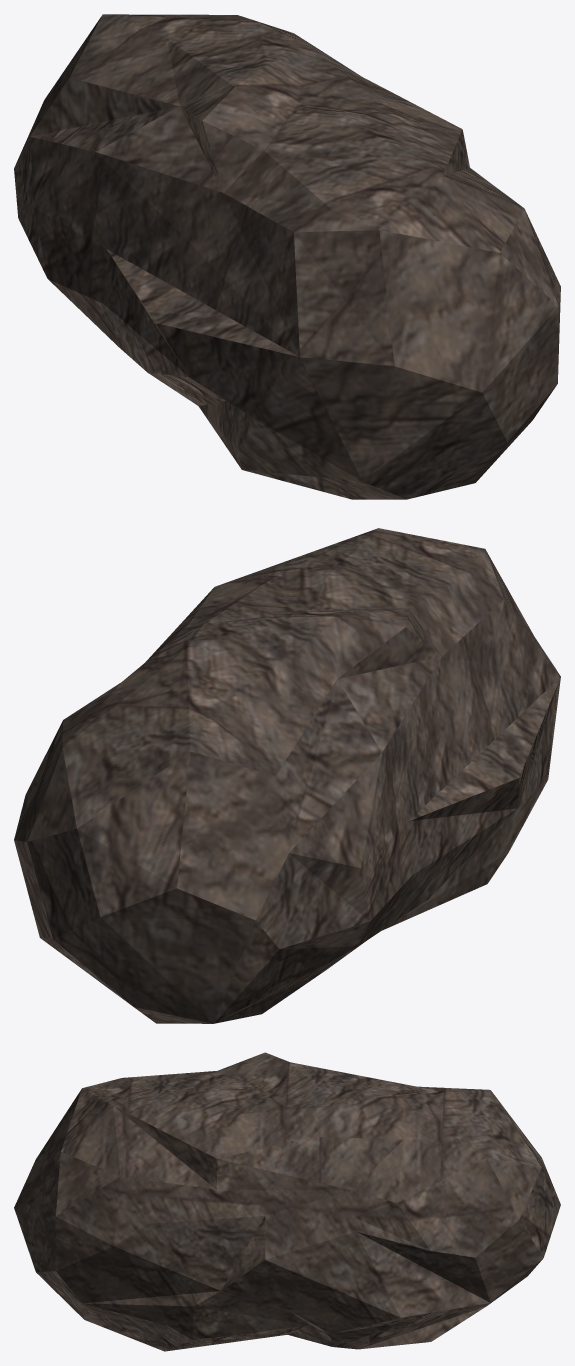
The model's file is LampLight_Rock_4.FBX.
3 renders of one model, top to bottom at view 1: azimuth 30°, elevation 25°; view 2: azimuth 150°, elevation 25°; view 3: azimuth 270°, elevation 25°, orthographic. The views are drawn at different scales.
Parts seen in each view (by area): view 1: Bg_Rock_2; view 2: Bg_Rock_2; view 3: Bg_Rock_2.
Part boxes in pixels (box(x1,y1,x2,y2)): Bg_Rock_2: box(14, 14, 560, 499); Bg_Rock_2: box(14, 528, 560, 1023); Bg_Rock_2: box(14, 1052, 560, 1351).
Bounding box in the file's own units: 91.4 × 86.27 × 170.
